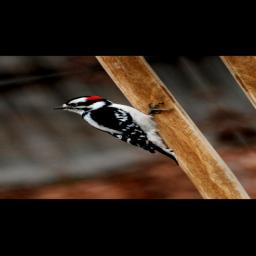Woodpecker: (47, 85, 211, 176)
